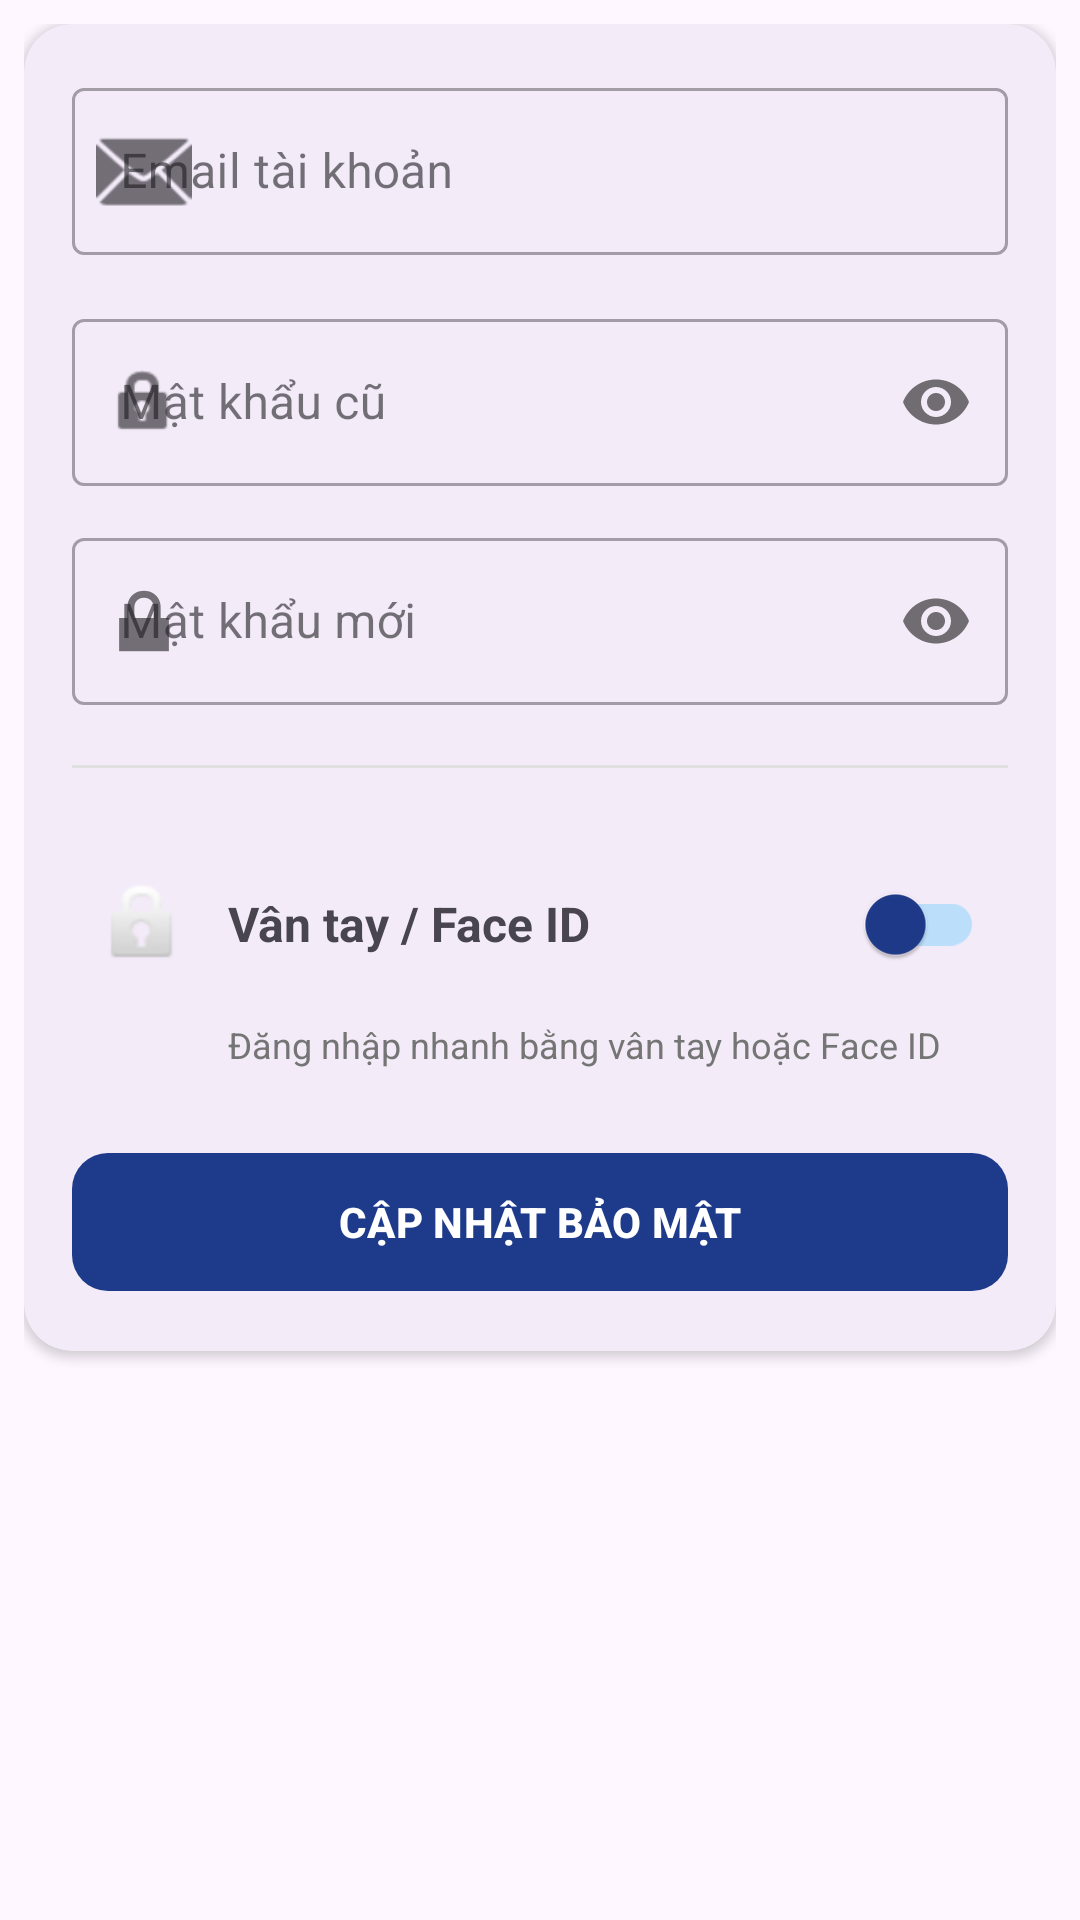

Where icons sit on this 1080 × 1920 app screen, as (x1, y1, x2, y2):
lock idle: (111, 919, 172, 957)
